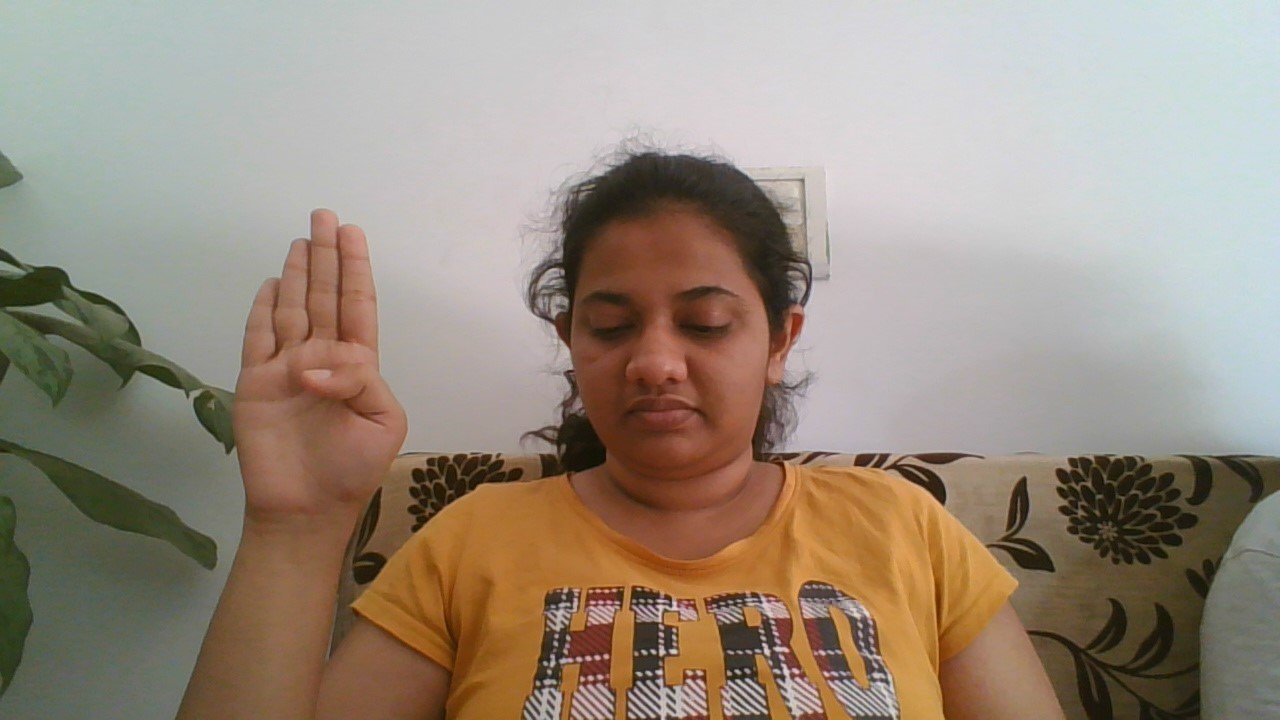b: (222, 198, 417, 536)
